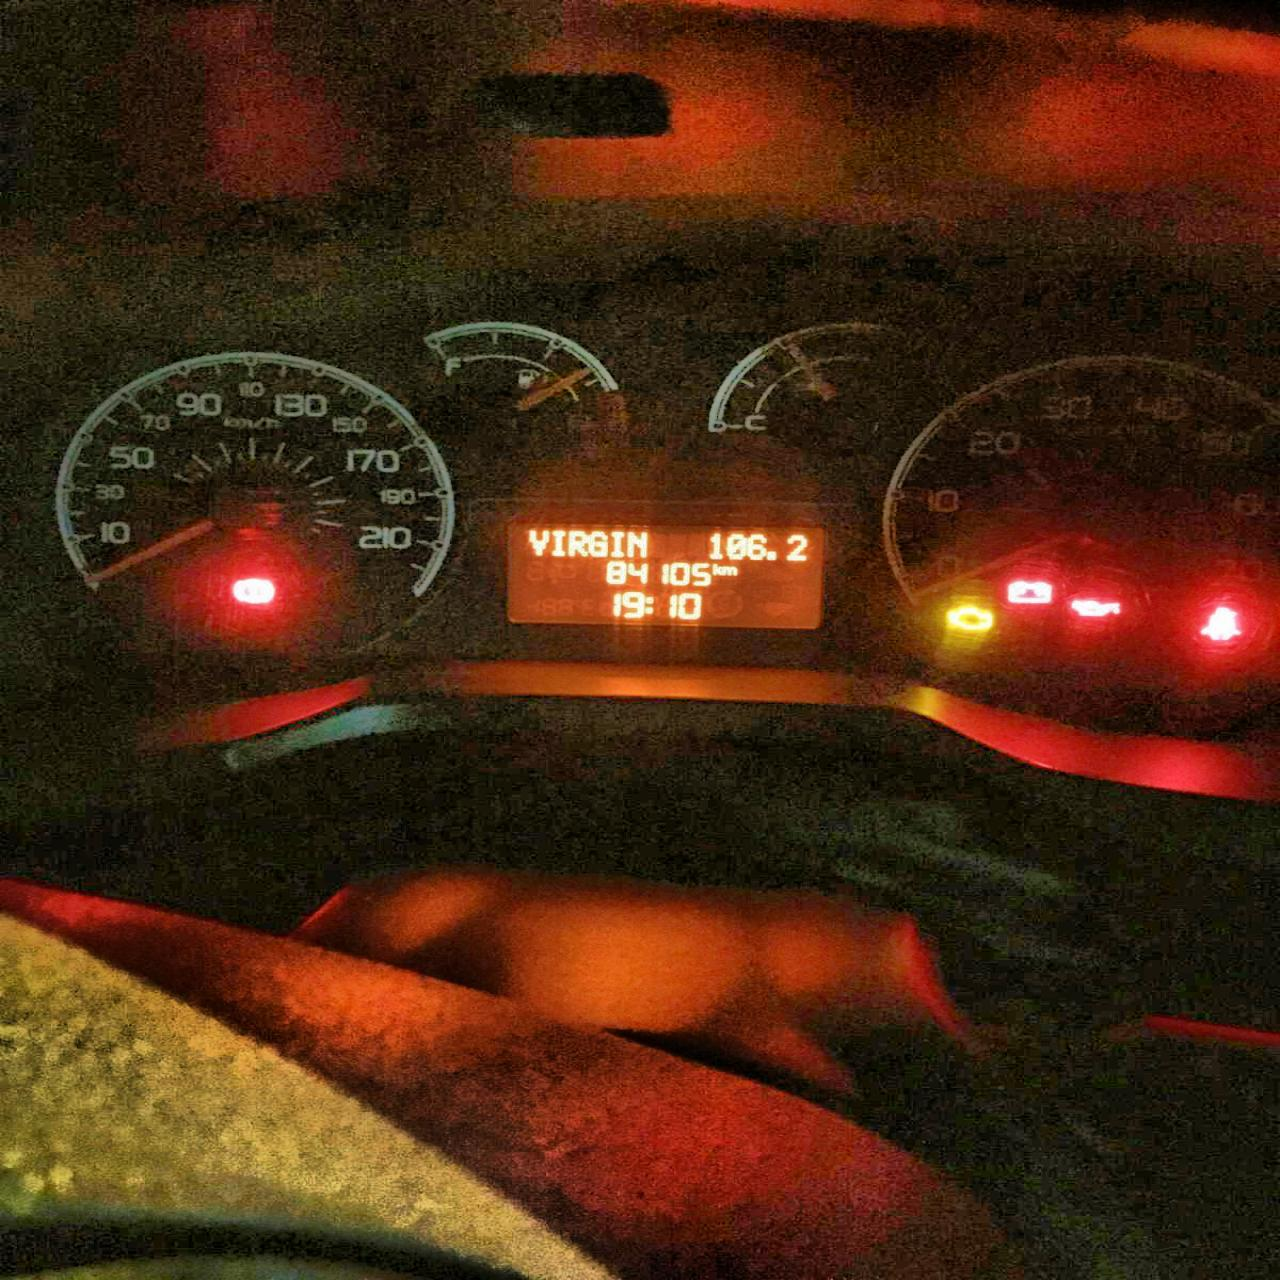-: (765, 549, 777, 563)
0: (678, 591, 703, 621), (723, 530, 745, 560), (669, 560, 690, 586)
1: (707, 533, 722, 561), (611, 590, 621, 620), (659, 561, 669, 588), (668, 592, 676, 621)
2: (785, 531, 809, 563)
4: (628, 560, 649, 583)
5: (693, 560, 709, 586)
6: (747, 531, 764, 561)
8: (605, 561, 626, 584)
9: (621, 588, 644, 621)
X: (566, 527, 587, 560), (628, 524, 648, 558), (526, 526, 549, 556), (588, 527, 607, 559), (608, 527, 625, 561), (551, 527, 565, 554), (644, 594, 656, 618), (720, 563, 738, 576), (712, 563, 720, 577)
odometer: (501, 518, 826, 632)
